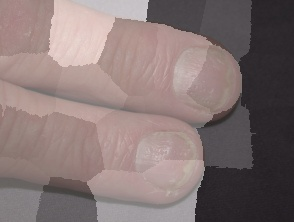Nail_psoriasis: (158, 32, 247, 120), (124, 116, 209, 204)
